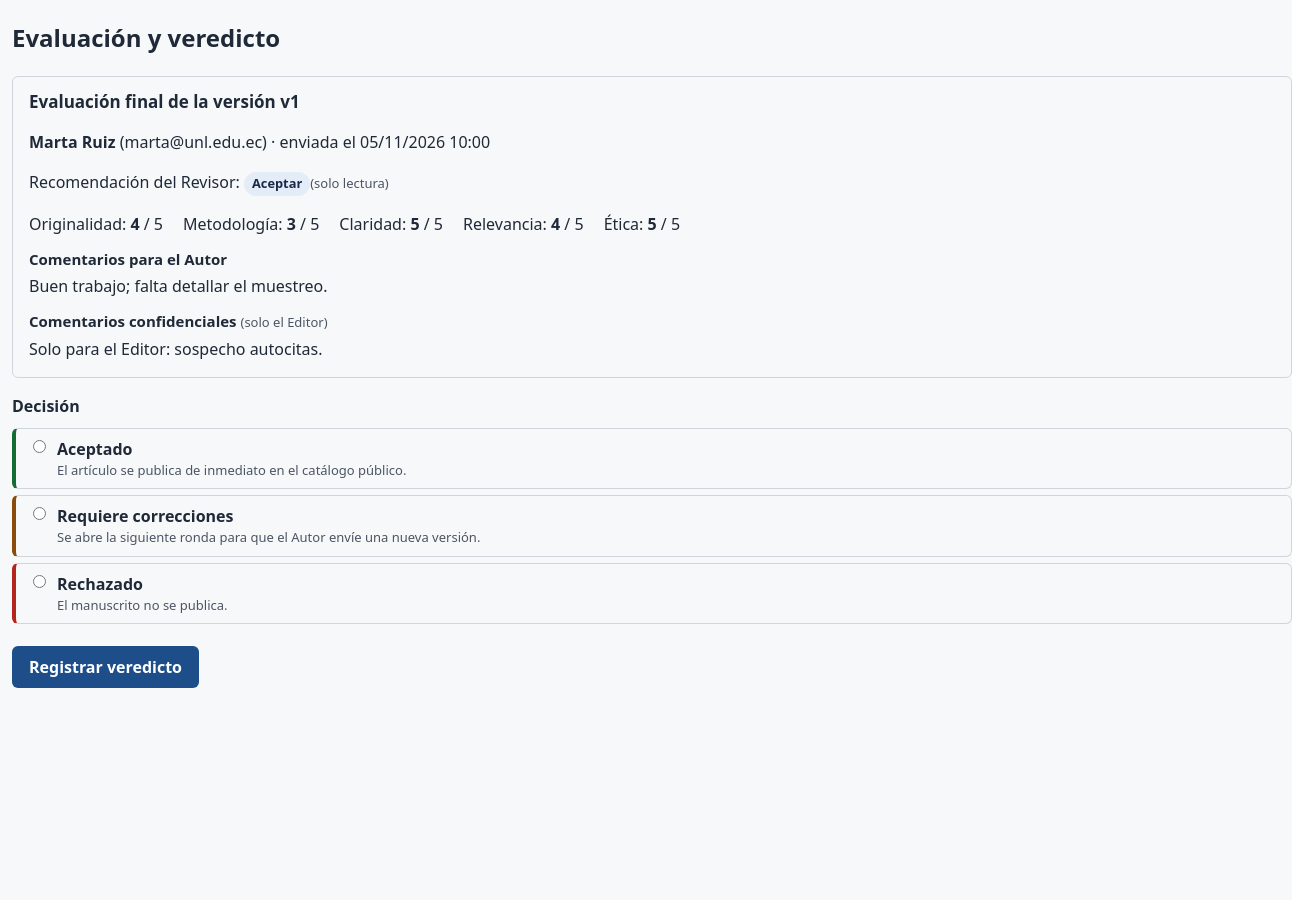
Test case: VerdictFormComponent › validación › sin decisión no se envía y se pide elegir
Click the submit button at (106, 667), box [12,646,199,688]
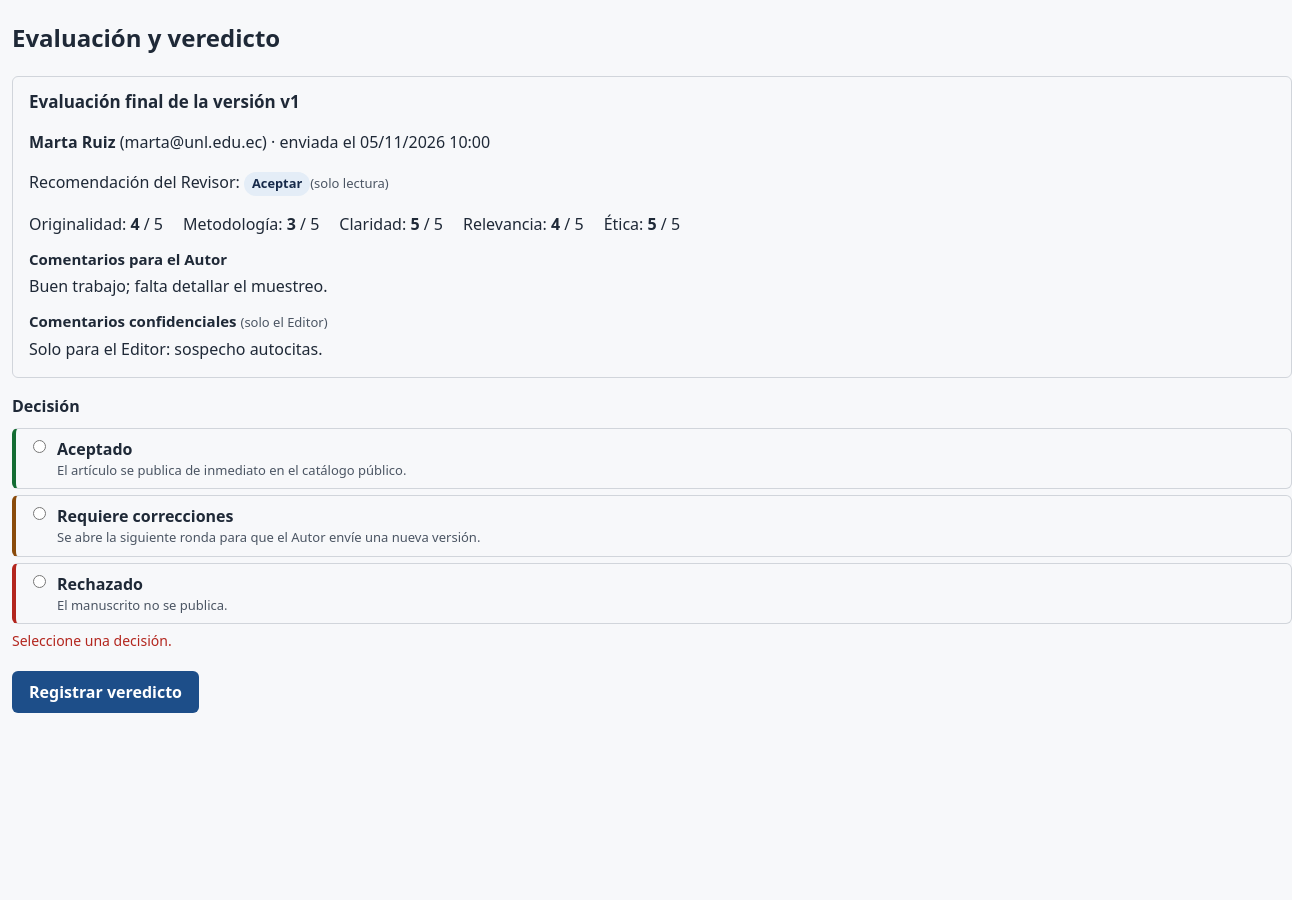
Result: the message "Seleccione una decisión." is shown at [12,631,172,650]
